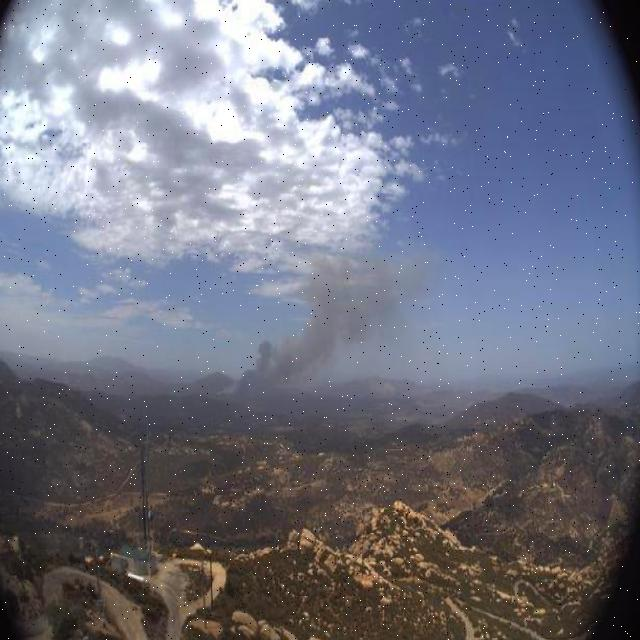smoke: (215, 238, 452, 420)
